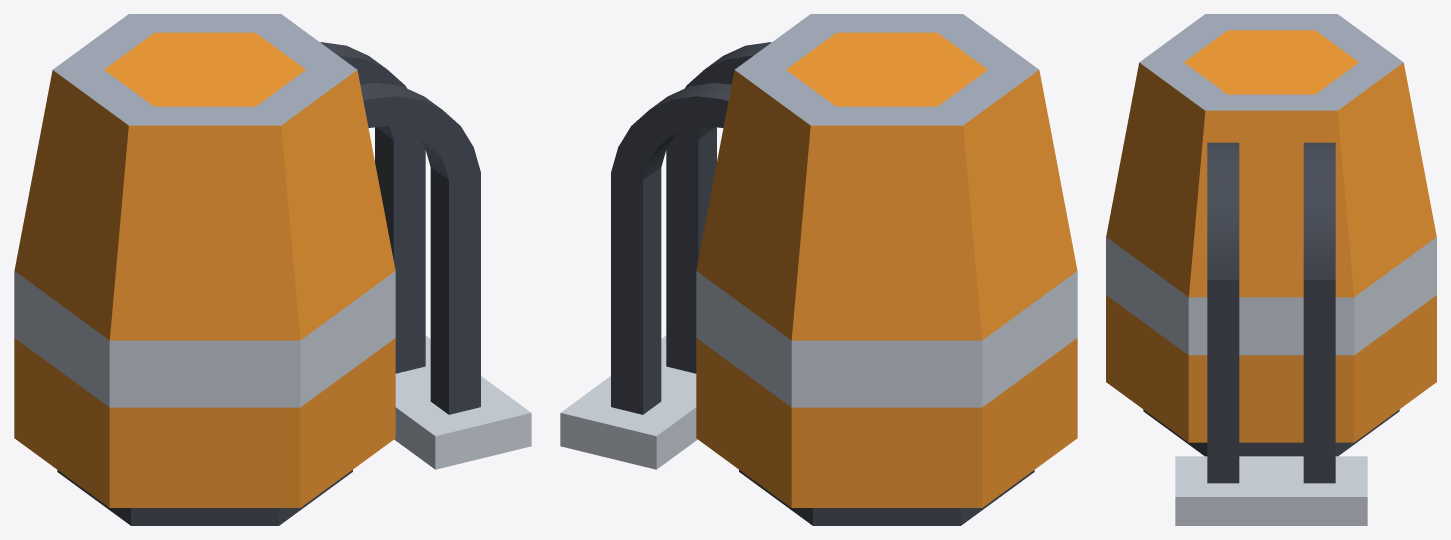
The model's file is machine_barrel.dae.
3 views of the same model, side by side, from view 1: azimuth 30°, elevation 25°; view 2: azimuth 150°, elevation 25°; view 3: azimuth 270°, elevation 25° (orthographic). The views are drawn at different scales.
Visible parts, largest first — view 1: machine_barrel, cables; view 2: machine_barrel, cables; view 3: machine_barrel, cables.
Boxes of the visible parts, left/top/right/bottom form: machine_barrel: left=14, top=14, right=395, bottom=525; cables: left=320, top=42, right=531, bottom=469; machine_barrel: left=696, top=14, right=1077, bottom=525; cables: left=560, top=42, right=771, bottom=469; machine_barrel: left=1106, top=14, right=1436, bottom=456; cables: left=1175, top=142, right=1367, bottom=525.
Size of the model in its own units: 0.6464 by 0.6 by 0.5155.
